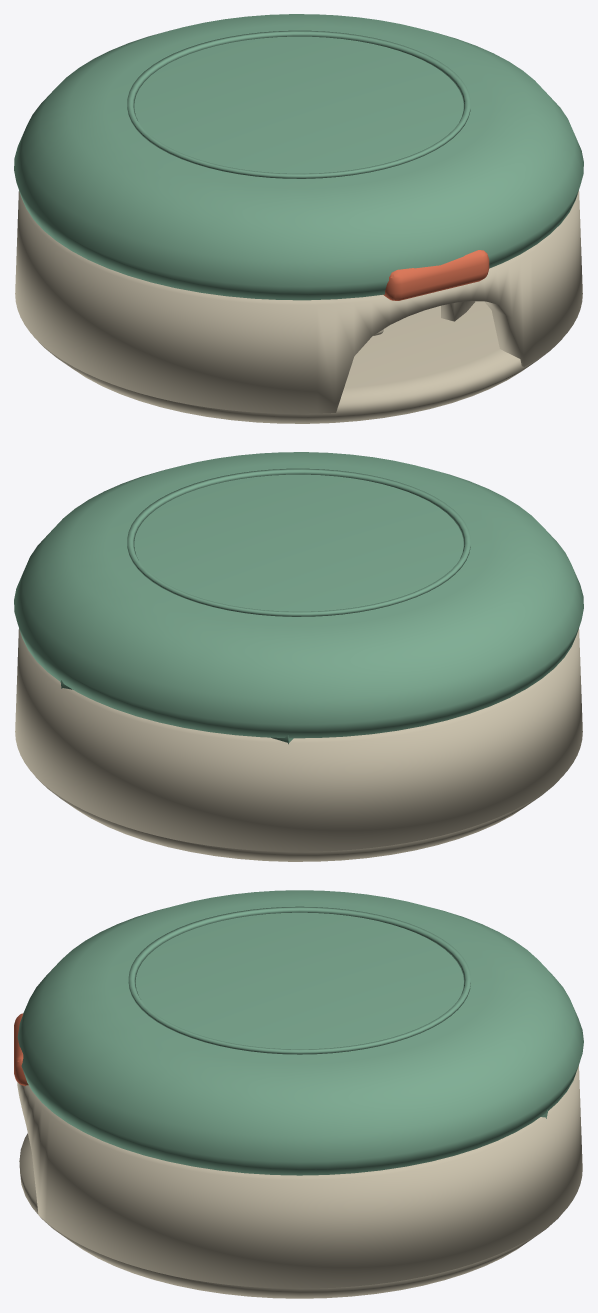
The picture shows the model from 3 angles, top to bottom: view 1: azimuth 30°, elevation 25°; view 2: azimuth 150°, elevation 25°; view 3: azimuth 270°, elevation 25°; orthographic projection.
Parts seen in each view (by area): view 1: lid_assembly, station_shell; view 2: lid_assembly, station_shell; view 3: lid_assembly, station_shell.
Boxes of the visible parts, x1,y1,x2,y2 form: lid_assembly: (14,14,583,300); station_shell: (15,190,582,423); lid_assembly: (14,452,583,738); station_shell: (15,628,582,861); lid_assembly: (14,890,583,1175); station_shell: (17,1065,582,1298).
Bounding box in the file's own units: 0.12 × 0.0488 × 0.1203.
